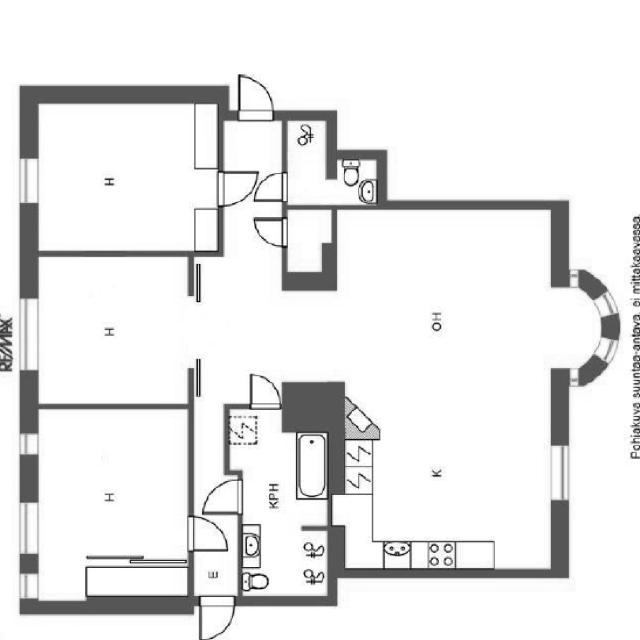door: (186, 475, 240, 539), (226, 70, 282, 126), (192, 592, 237, 640), (207, 168, 259, 209), (181, 514, 232, 554), (202, 474, 248, 518), (242, 369, 284, 416), (250, 214, 292, 252), (255, 170, 289, 203)
window: (13, 289, 43, 379), (540, 437, 574, 515), (10, 154, 45, 216), (14, 492, 42, 562), (12, 564, 36, 606), (14, 426, 40, 462)
zone: (333, 405, 560, 573), (27, 95, 221, 258), (25, 405, 192, 582), (30, 252, 193, 408), (236, 424, 328, 606), (238, 526, 332, 602), (280, 138, 382, 206), (283, 114, 332, 210)
